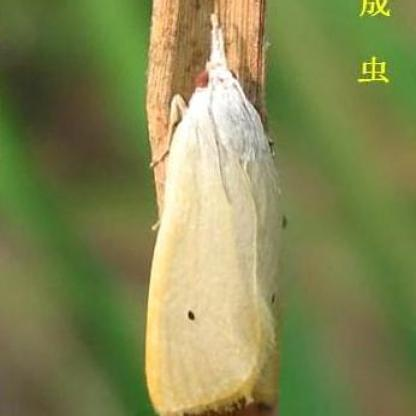stem-borer: (144, 12, 286, 416)
